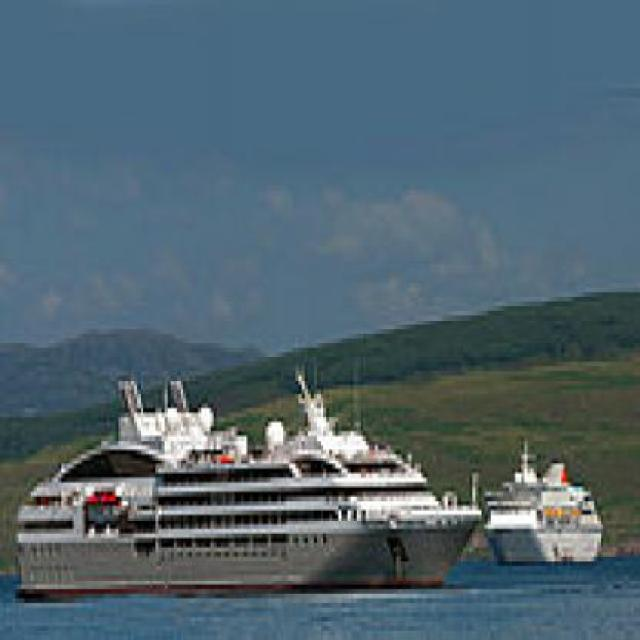cruise: (10, 349, 486, 600), (480, 427, 623, 586)
